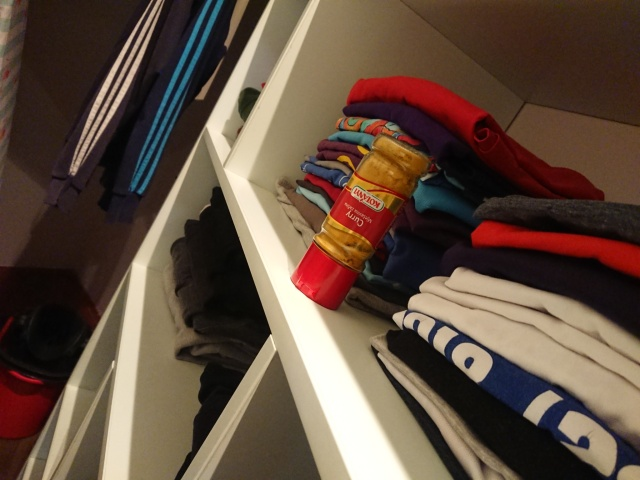Kotanyi Curry Spices Mix 70g: (287, 130, 434, 313)
